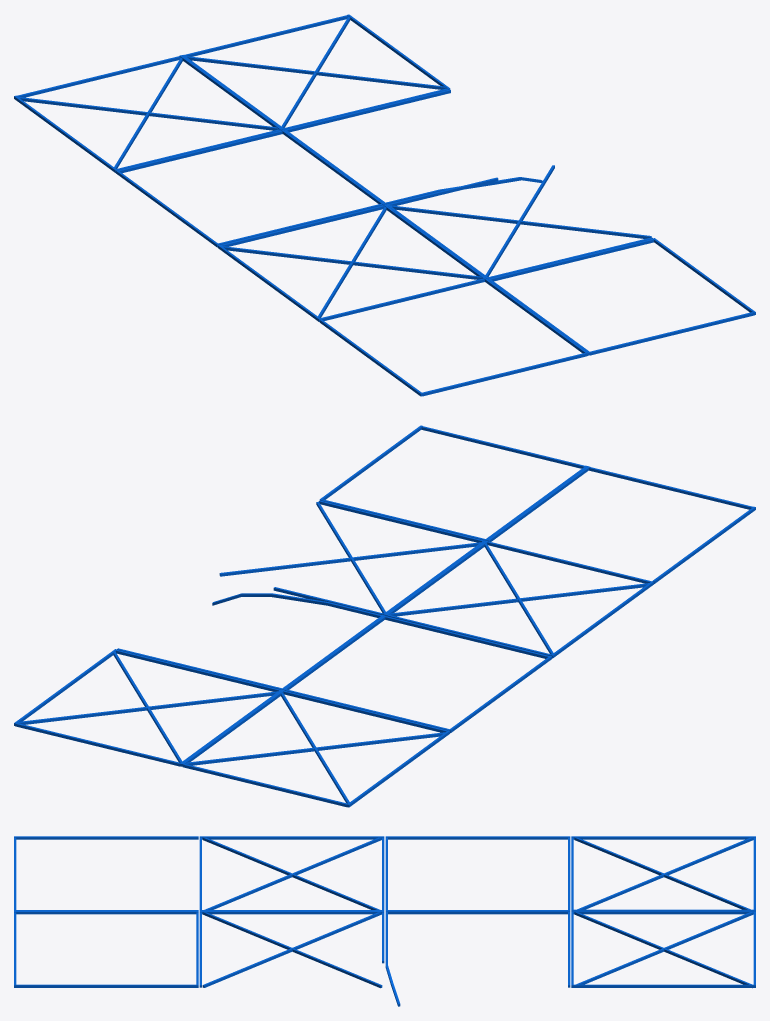
File: W03_Roof_Metal_Break_02.fbx
3 renders of one model, top to bottom at view 1: azimuth 30°, elevation 25°; view 2: azimuth 150°, elevation 25°; view 3: azimuth 270°, elevation 25°, orthographic. The views are drawn at different scales.
Visible parts, largest first — view 1: W03_Roof_Metal_Break_02; view 2: W03_Roof_Metal_Break_02; view 3: W03_Roof_Metal_Break_02.
Part boxes in pixels (x1,y1,x2,y2): W03_Roof_Metal_Break_02: (14, 14, 755, 396); W03_Roof_Metal_Break_02: (14, 425, 755, 807); W03_Roof_Metal_Break_02: (14, 836, 755, 1006).
Bounding box in the file's own units: 2181 × 154 × 4584.
